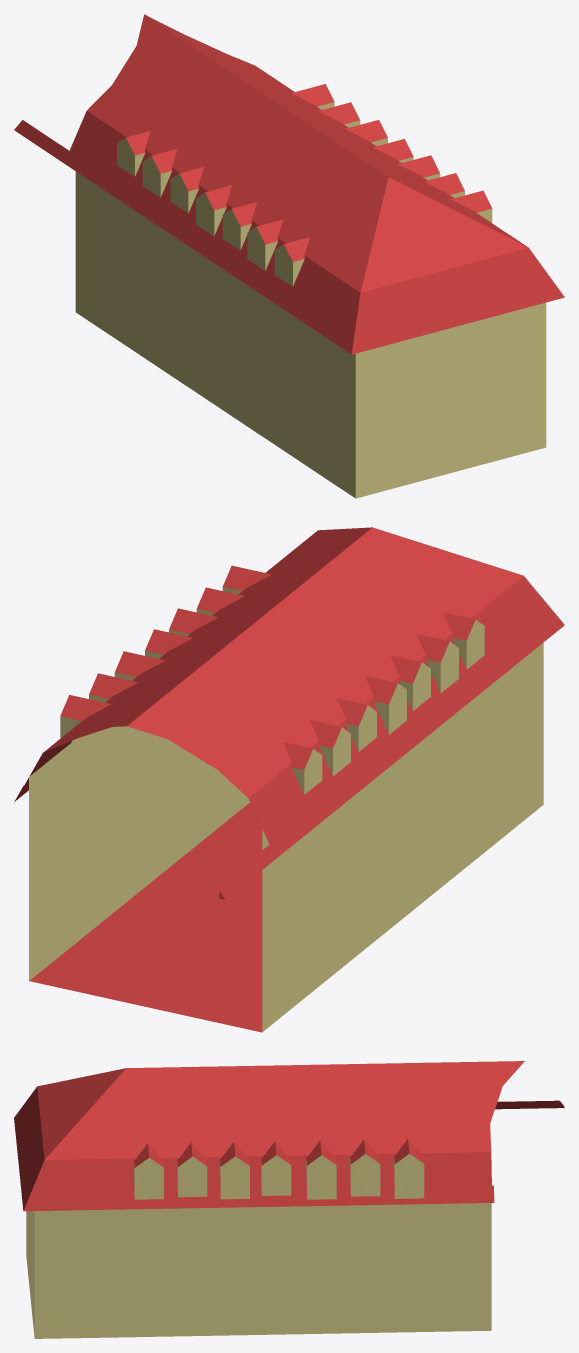
3 views of the same model, one above another, from view 1: azimuth 30°, elevation 25°; view 2: azimuth 150°, elevation 25°; view 3: azimuth 270°, elevation 25° (orthographic). The views are drawn at different scales.
Size of the model in its own units: 15.55 by 35.06 by 15.85.
